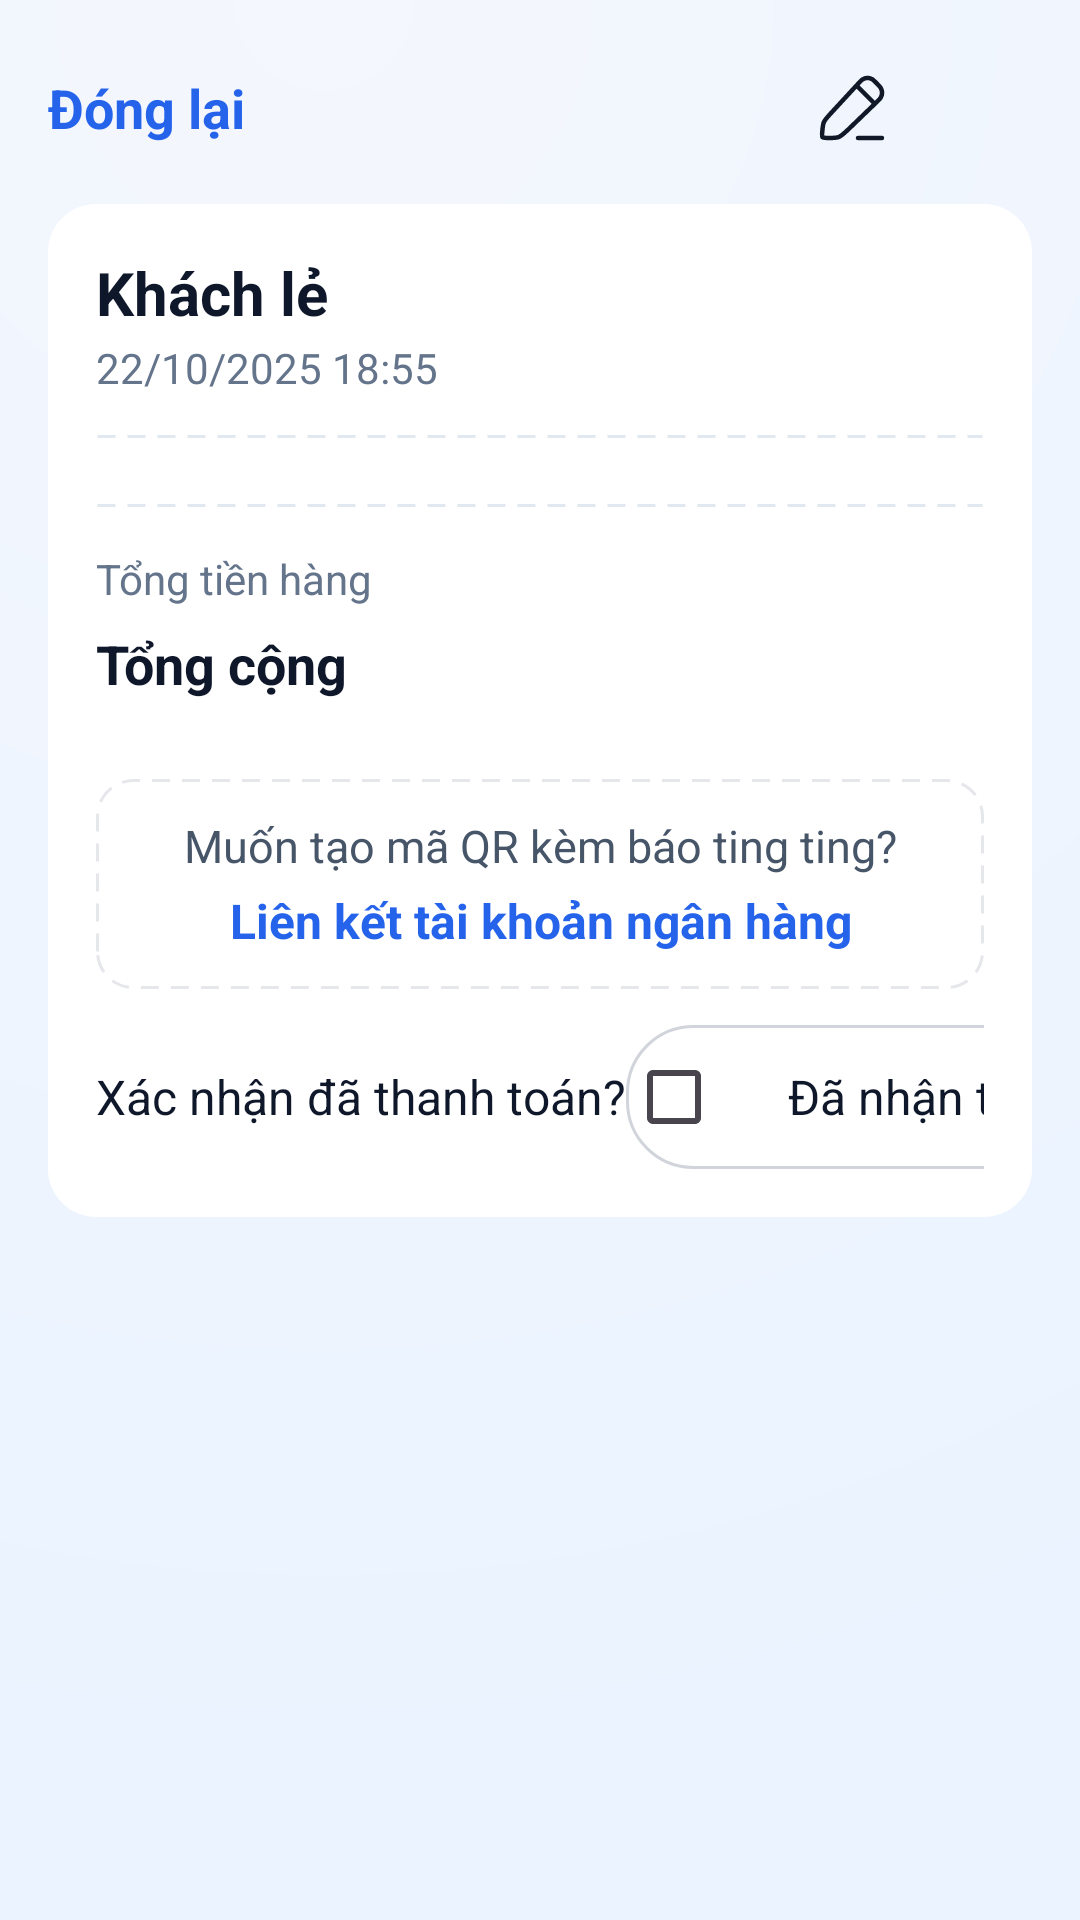

Icon bounding boxes for this 1080*1920 phone screenshot, format [x1, y1, x2, y2]:
edit: [819, 75, 885, 141]
